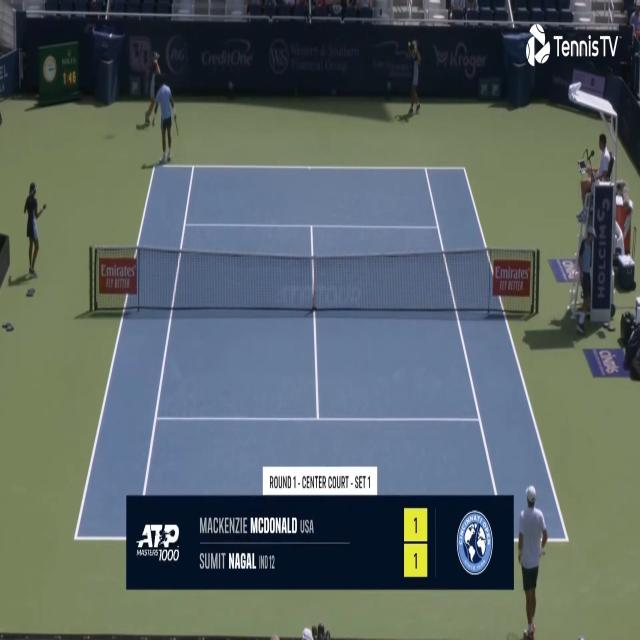tennis-player: (516, 481, 548, 640), (150, 72, 180, 165)
